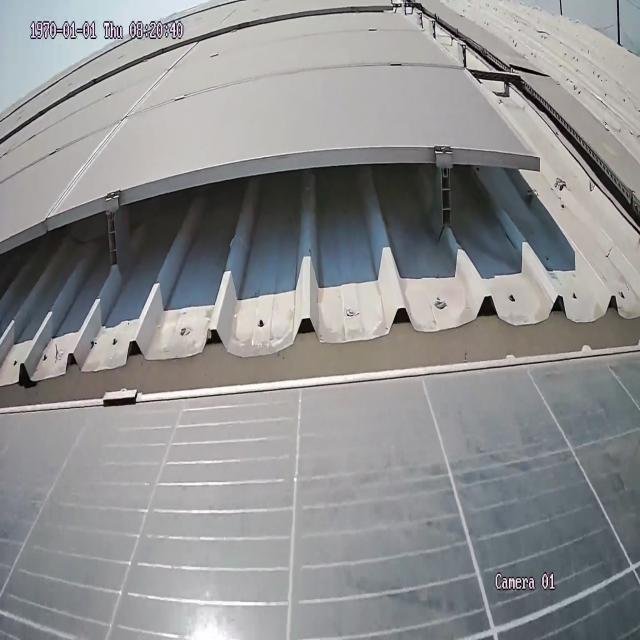interior panel: (46, 52, 184, 208)
outher panel: (0, 0, 640, 412)
